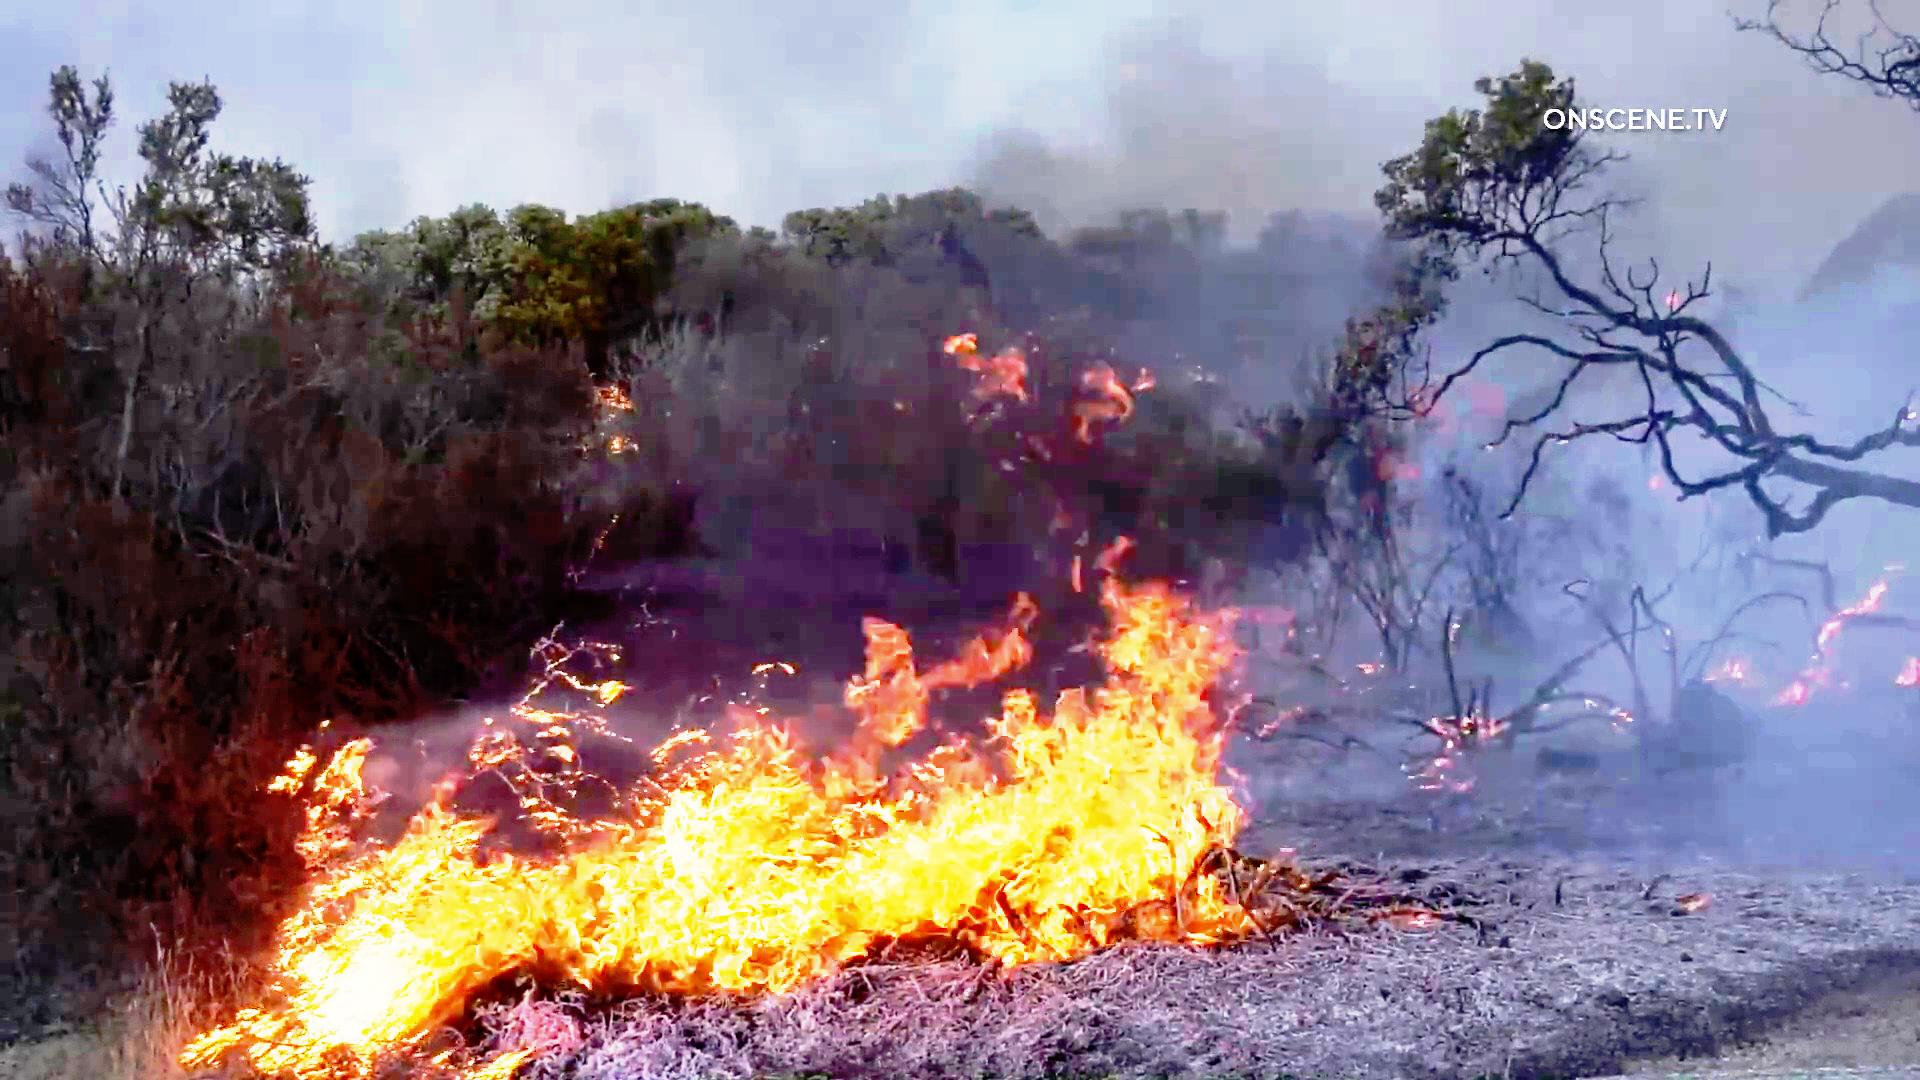fire: (297, 596, 1213, 994)
